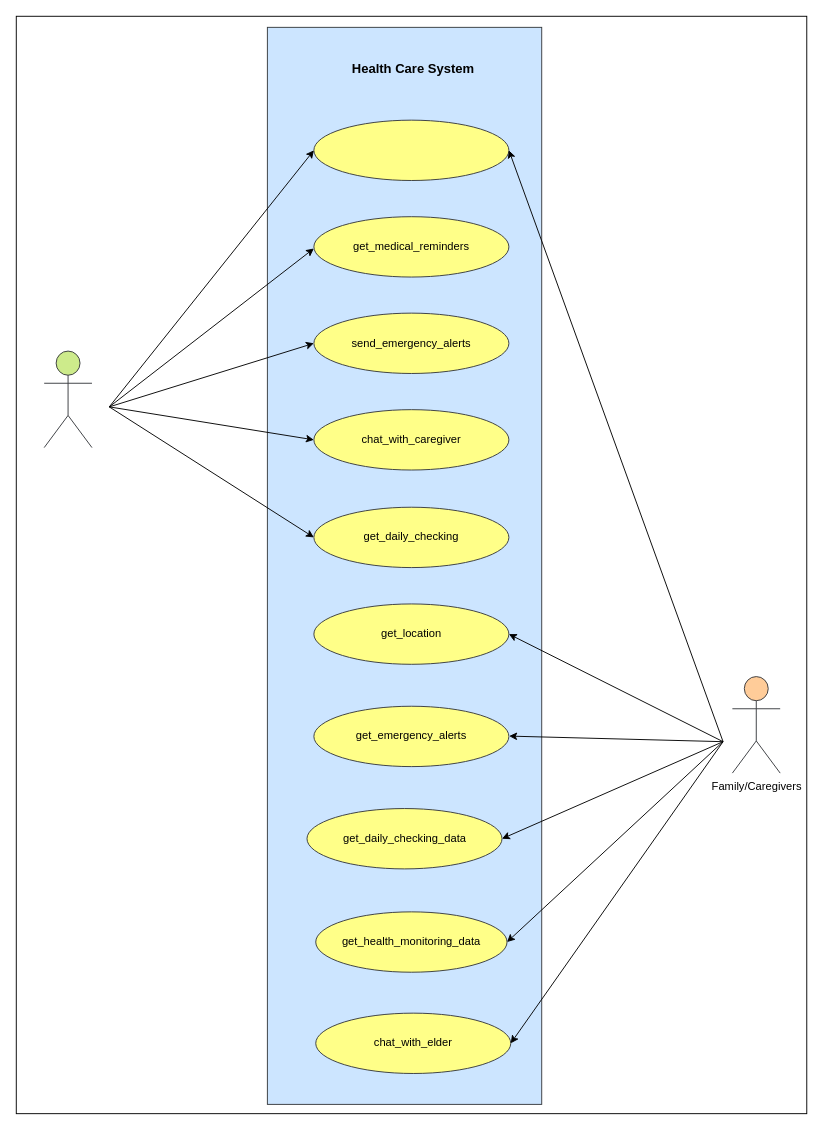
The diagram is 823 pixels wide and 1130 high, and some of its shapes have lost their labels. Here are the shapes that lost their labels. From the top down, the box of each, then its label:
(313, 119, 509, 181): medication_management
(43, 350, 92, 448): Elderly User
